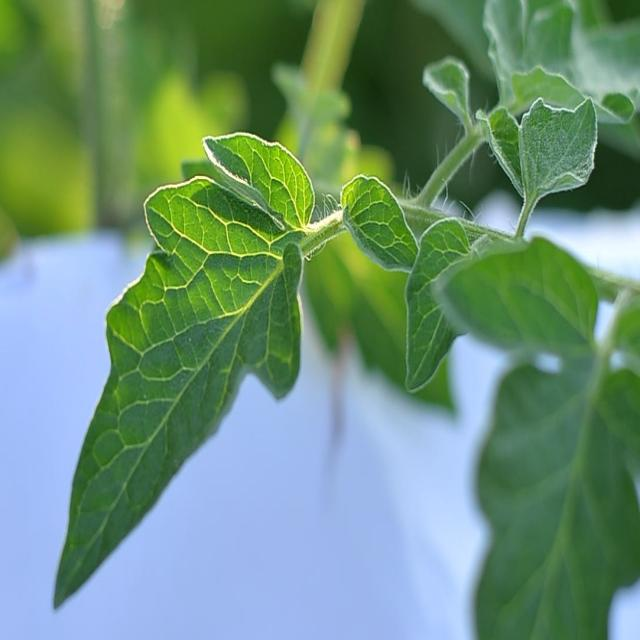healthy: (343, 94, 640, 640), (48, 126, 318, 640)
